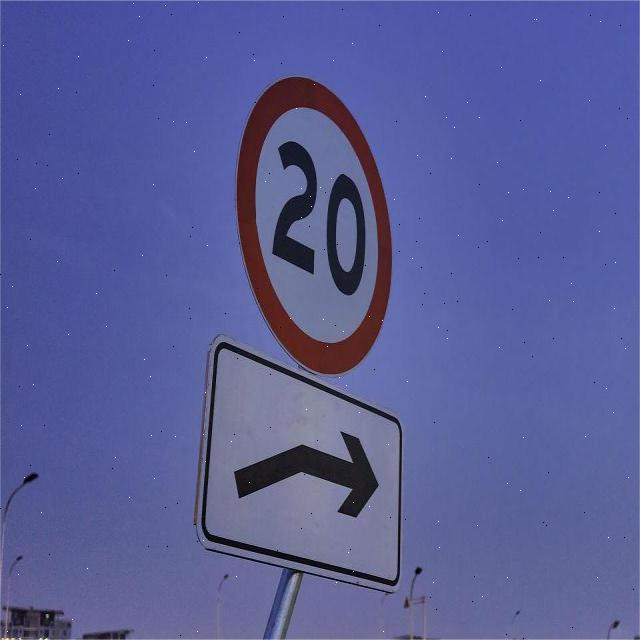speed limit 20: (235, 78, 392, 382)
